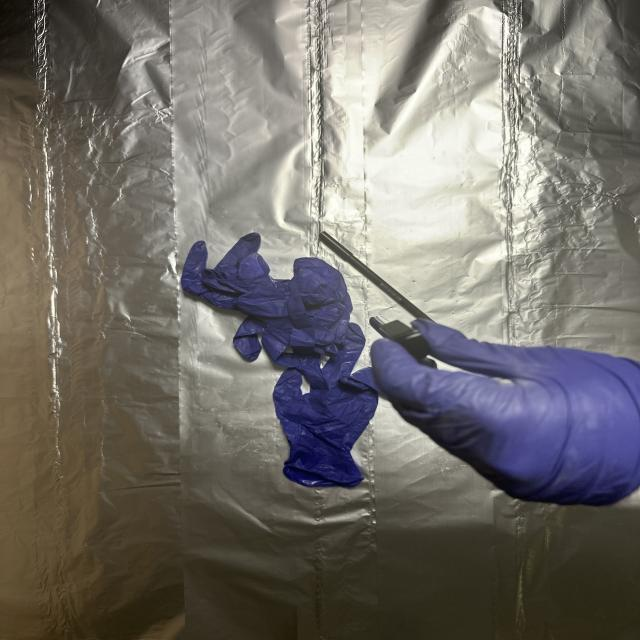gloves_contaminated: (371, 319, 640, 505)
